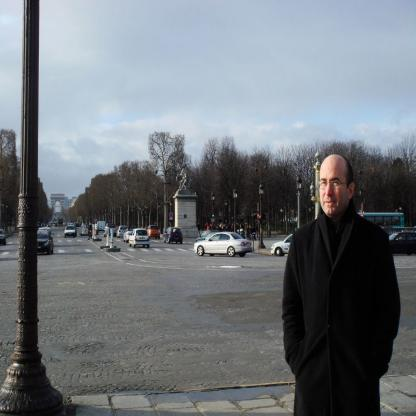Car: (193, 232, 250, 262), (37, 220, 86, 254), (103, 223, 160, 249), (388, 231, 416, 255), (271, 234, 292, 257), (164, 226, 186, 244), (196, 229, 216, 242), (0, 229, 6, 245)
